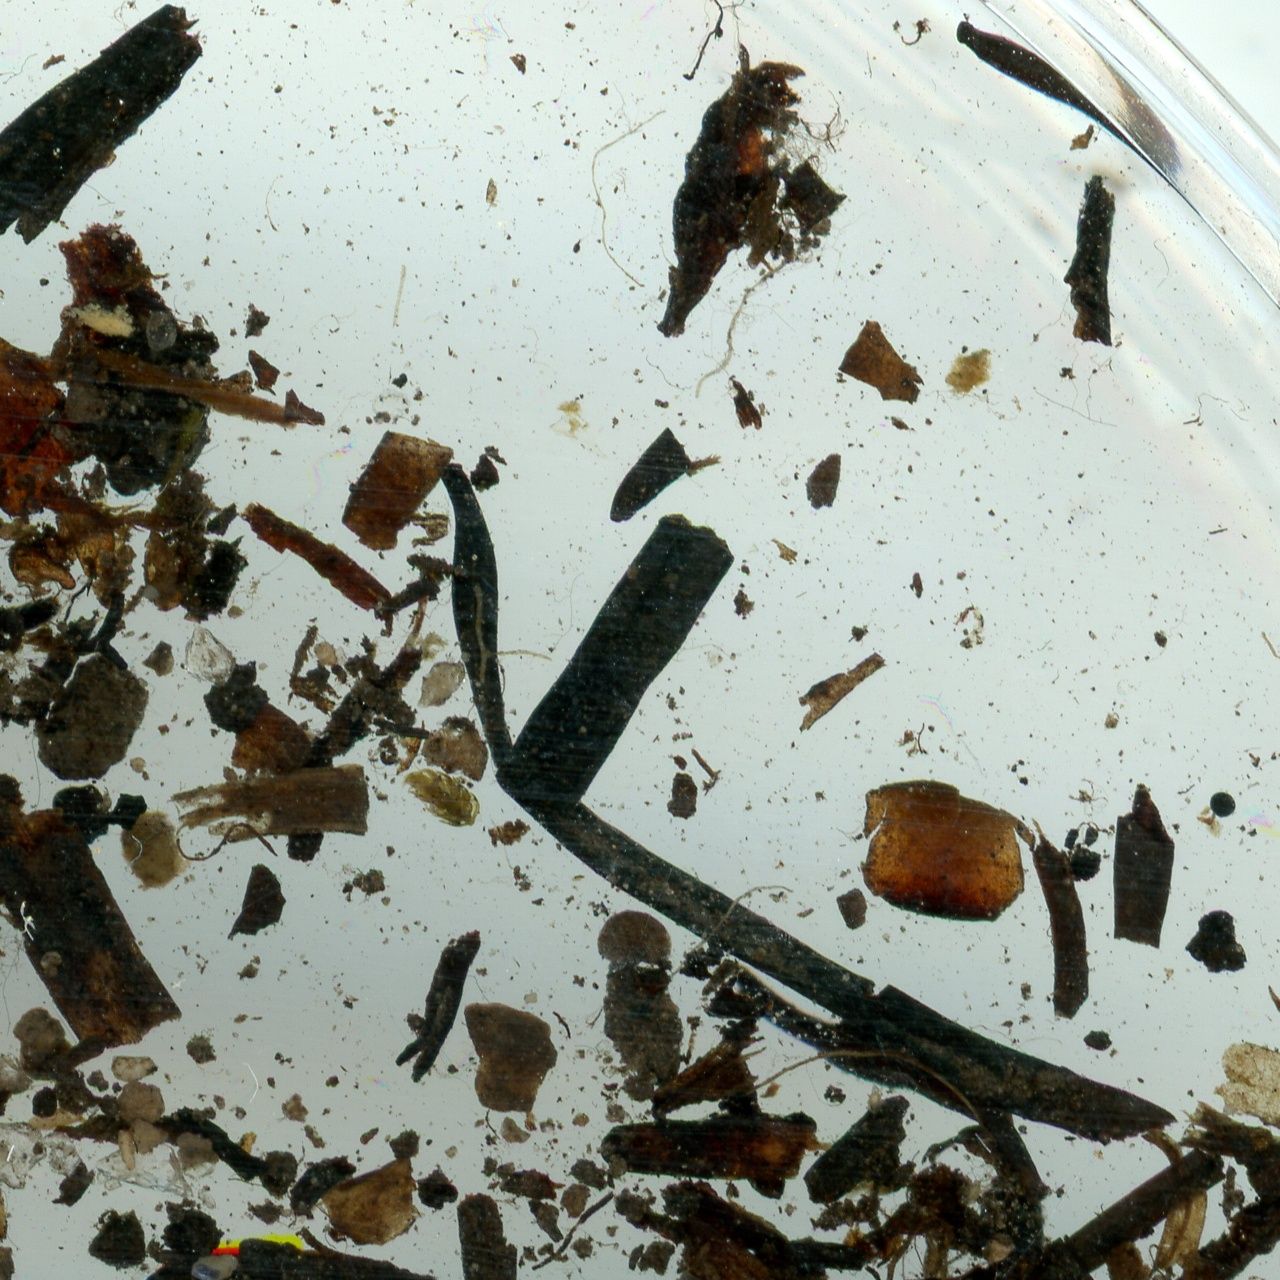arthropod: (653, 45, 804, 339)
